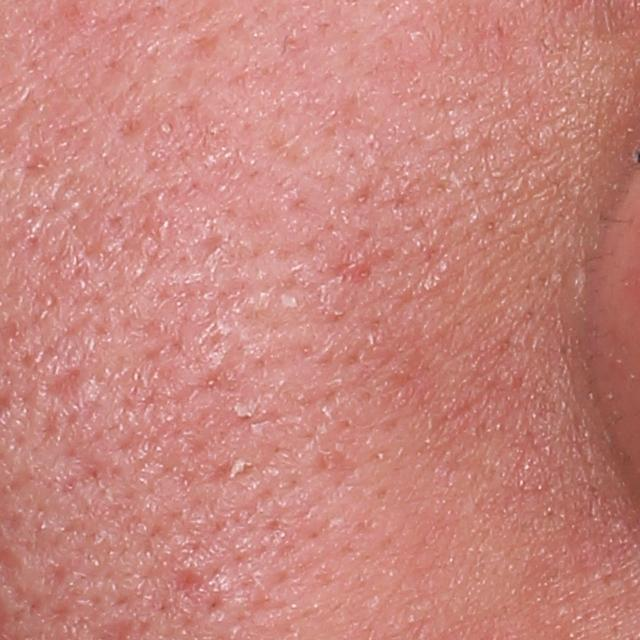atrophic_scar: (18, 170, 97, 265), (41, 359, 87, 422), (336, 248, 393, 289)
